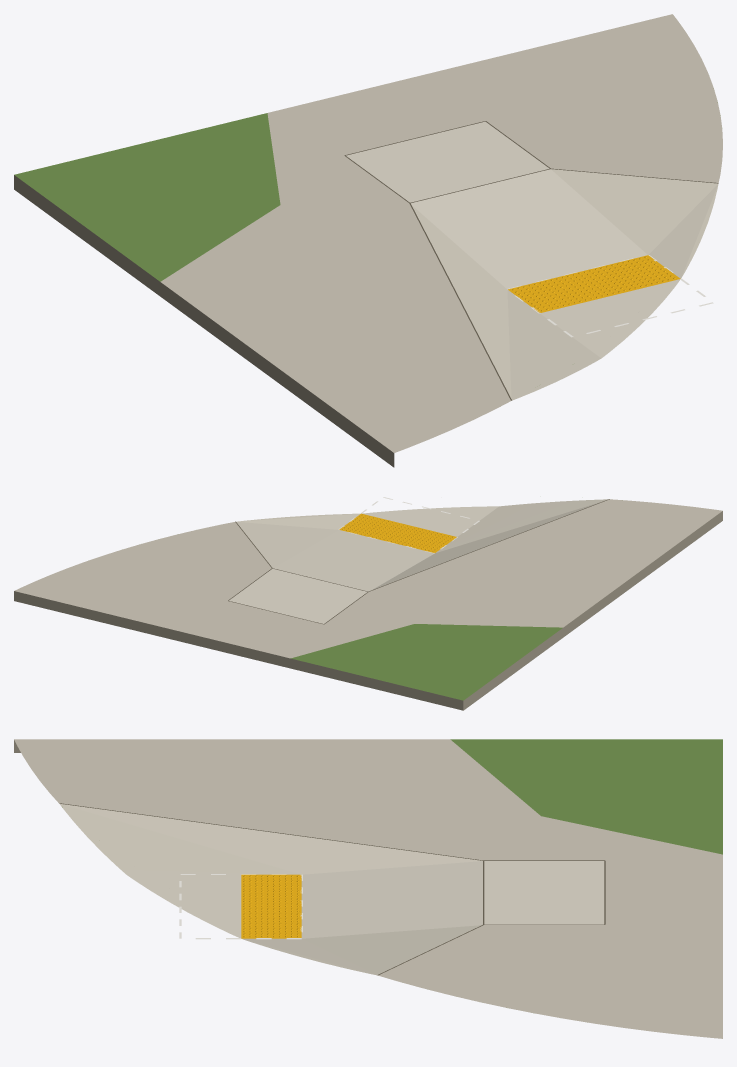
File: ramp-422d.glb
3 views of the same model, one above another, from view 1: azimuth 30°, elevation 25°; view 2: azimuth 150°, elevation 25°; view 3: azimuth 270°, elevation 25° (orthographic). The views are drawn at different scales.
Parts seen in each view (by area): view 1: Seattle Type 422D: Directional ramp with wings; view 2: Seattle Type 422D: Directional ramp with wings; view 3: Seattle Type 422D: Directional ramp with wings.
Part boxes in pixels (box(x1,y1,x2,y2)): Seattle Type 422D: Directional ramp with wings: box(14, 14, 722, 467); Seattle Type 422D: Directional ramp with wings: box(14, 497, 722, 710); Seattle Type 422D: Directional ramp with wings: box(14, 739, 722, 1038).
Size of the model in its own units: 7.13 by 0.1554 by 7.13.
